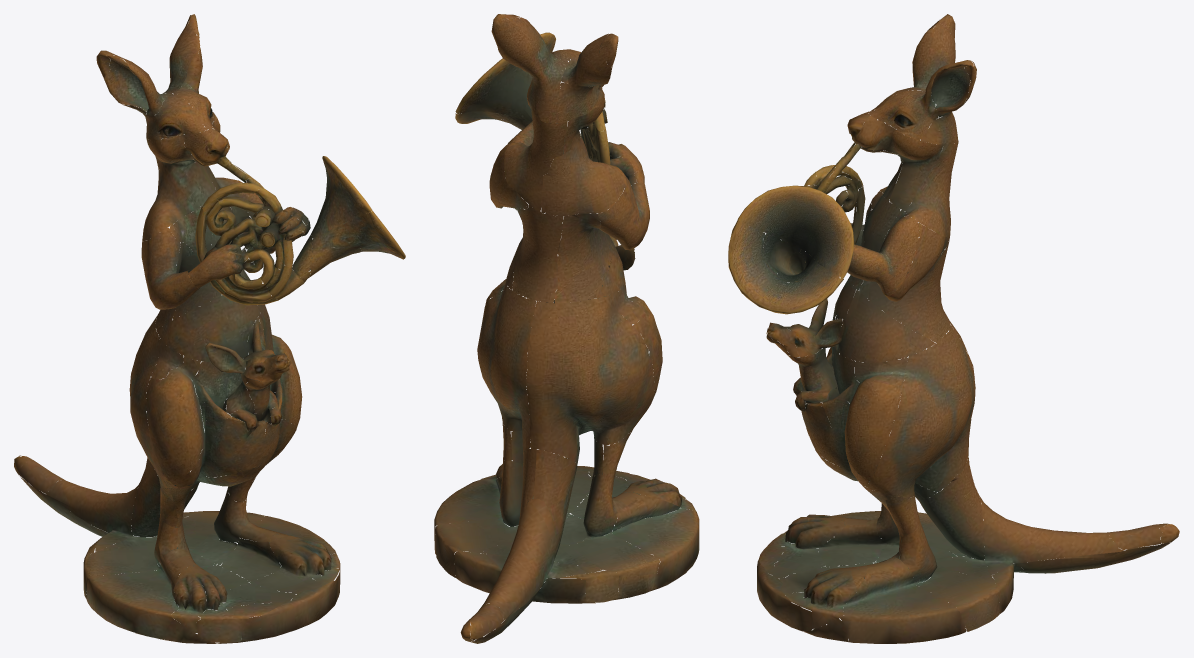
Rendered from h_clock_kangaroo.glb.
3 renders of one model, left to right at view 1: azimuth 30°, elevation 25°; view 2: azimuth 150°, elevation 25°; view 3: azimuth 270°, elevation 25°, orthographic. The views are drawn at different scales.
Parts seen in each view (by area): view 1: tripo_node_34c5f1cd-ca6f-41ed-b487-d33fb28386e2; view 2: tripo_node_34c5f1cd-ca6f-41ed-b487-d33fb28386e2; view 3: tripo_node_34c5f1cd-ca6f-41ed-b487-d33fb28386e2.
Part boxes in pixels (bbox=[...]): tripo_node_34c5f1cd-ca6f-41ed-b487-d33fb28386e2: bbox=[14, 14, 405, 643]; tripo_node_34c5f1cd-ca6f-41ed-b487-d33fb28386e2: bbox=[434, 14, 699, 643]; tripo_node_34c5f1cd-ca6f-41ed-b487-d33fb28386e2: bbox=[728, 14, 1179, 643].
Size of the model in its own units: 0.4831 by 1 by 0.7537.
Materials: 1 (1 with a texture image).
